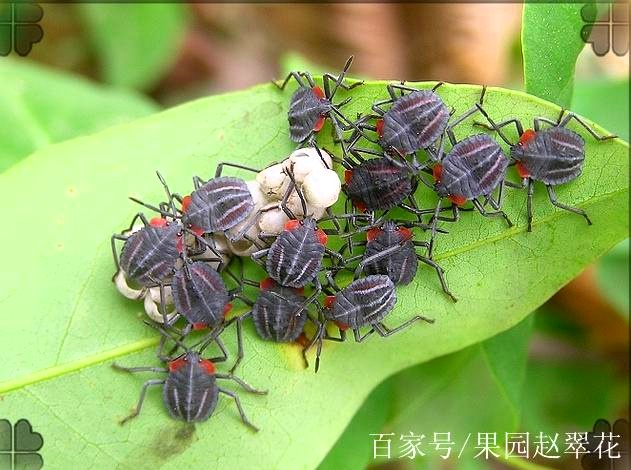Stink_Bug: (337, 198, 460, 289), (276, 153, 415, 229), (425, 132, 532, 222), (159, 251, 262, 339), (137, 353, 254, 428), (247, 278, 345, 349), (510, 125, 616, 188), (319, 273, 428, 325), (377, 77, 445, 160), (108, 214, 186, 284), (172, 175, 258, 237), (287, 62, 351, 140), (263, 244, 331, 287)
